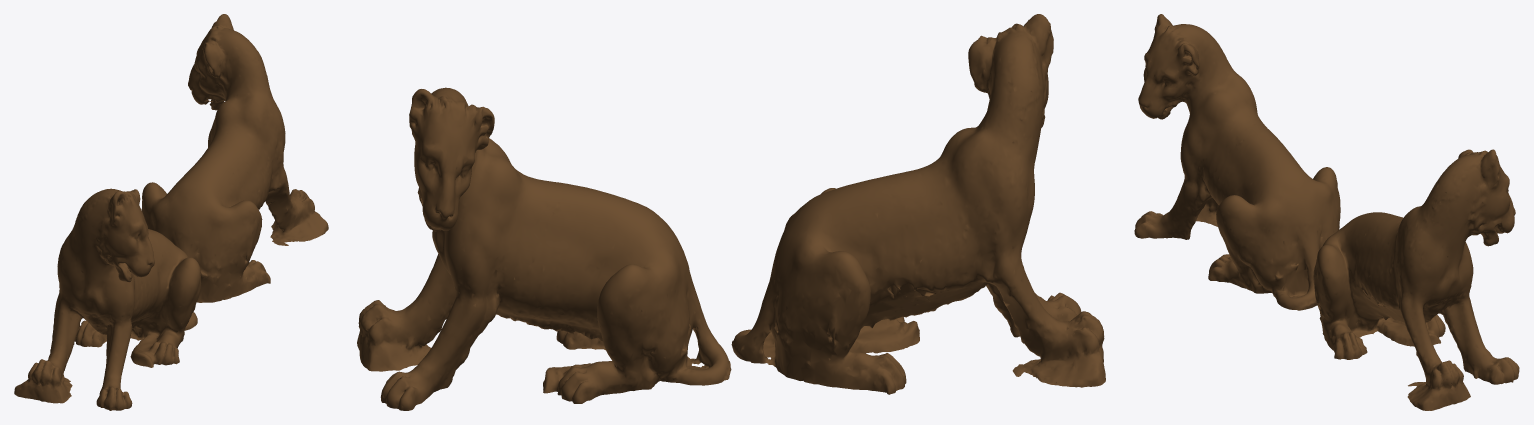
The model's file is sculpture.obj.
3 renders of one model, left to right at view 1: azimuth 30°, elevation 25°; view 2: azimuth 150°, elevation 25°; view 3: azimuth 270°, elevation 25°, orthographic. The views are drawn at different scales.
Visible parts, largest first — view 1: reclining_lions; view 2: reclining_lions; view 3: reclining_lions.
Part boxes in pixels (x1,y1,x2,y2): reclining_lions: (14,14,328,410); reclining_lions: (357,14,1105,410); reclining_lions: (1134,14,1519,410).
Size of the model in its own units: 52.15 by 25.57 by 40.04.
